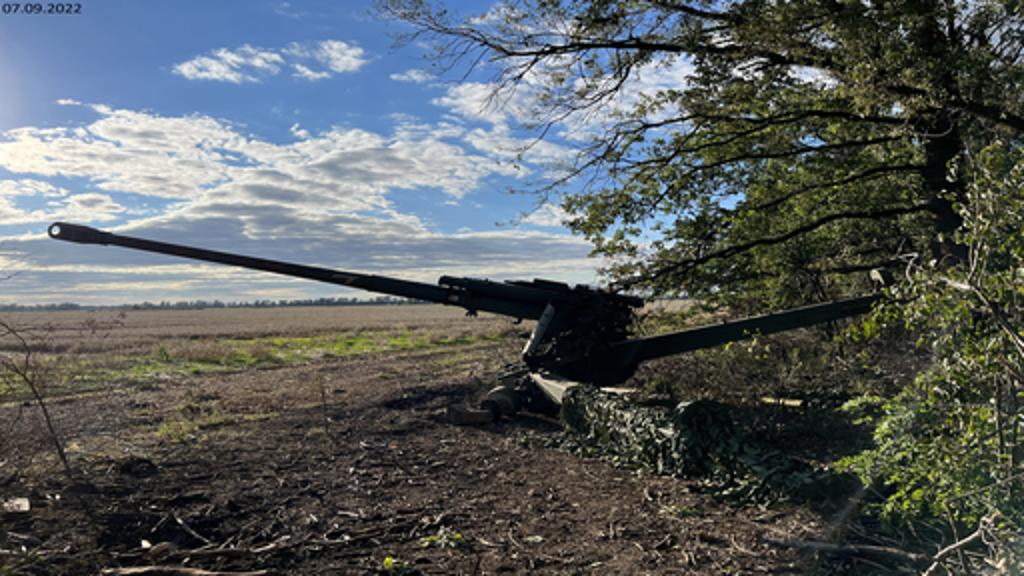ART: (42, 212, 810, 458)
